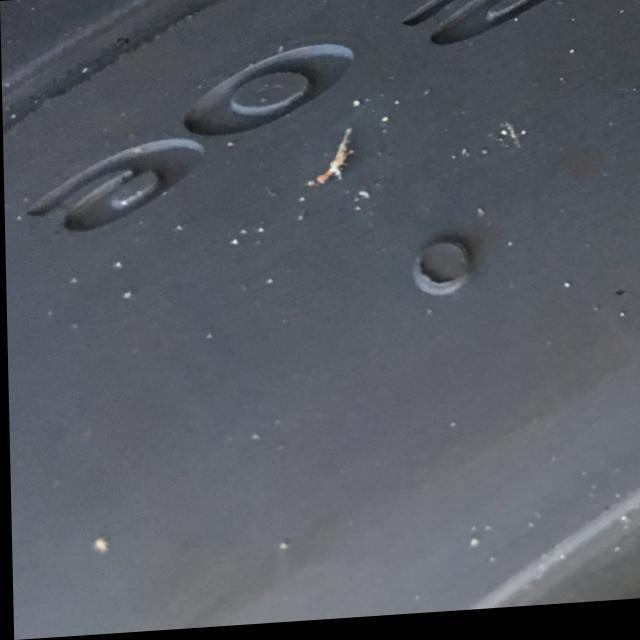Non-defective: (5, 0, 640, 580)
